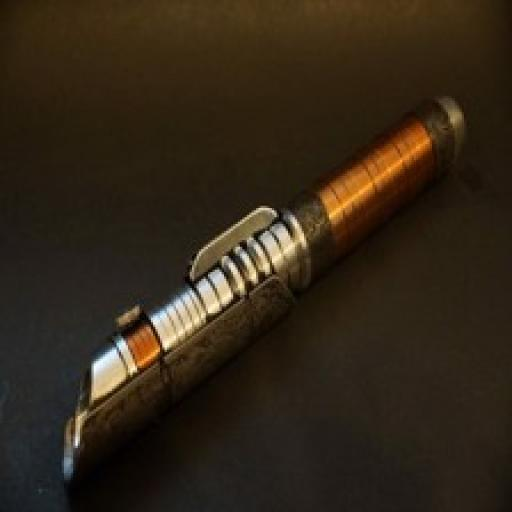lightsaber: (54, 90, 481, 480)
